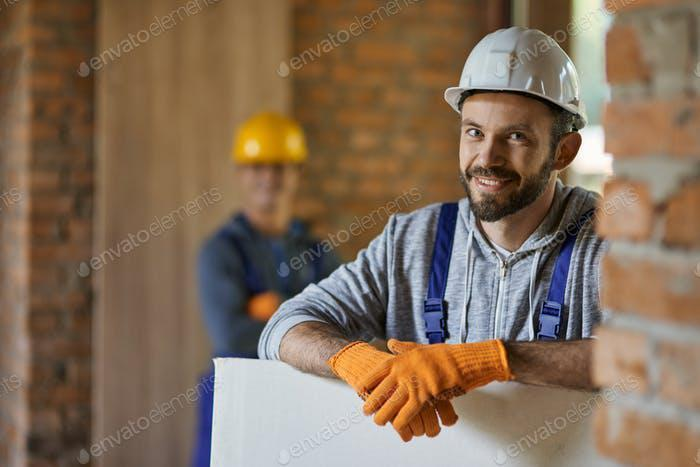helmet: (443, 25, 588, 129), (230, 109, 309, 162)
